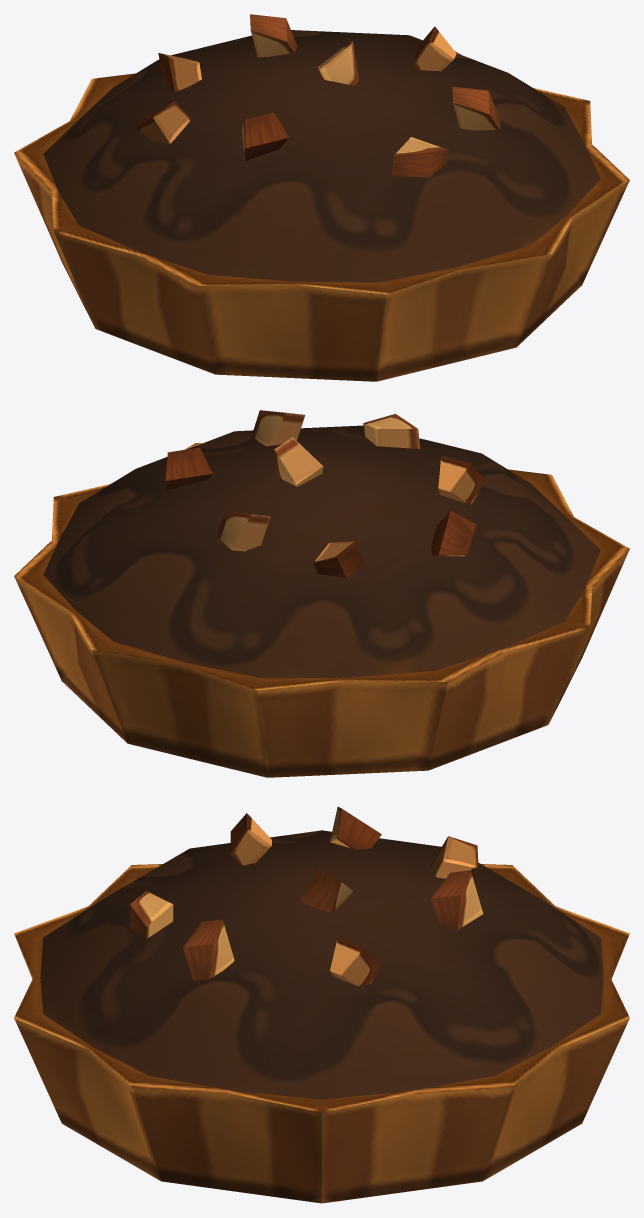
The model's file is chocolate pie.FBX.
3 renders of one model, top to bottom at view 1: azimuth 30°, elevation 25°; view 2: azimuth 150°, elevation 25°; view 3: azimuth 270°, elevation 25°, orthographic. The views are drawn at different scales.
Parts seen in each view (by area): view 1: chocolate pie; view 2: chocolate pie; view 3: chocolate pie.
Part boxes in pixels (left/top/right/bottom): chocolate pie: left=14, top=14, right=629, bottom=381; chocolate pie: left=14, top=410, right=629, bottom=777; chocolate pie: left=14, top=807, right=629, bottom=1203.
Size of the model in its own units: 12.61 by 5.04 by 11.99.
